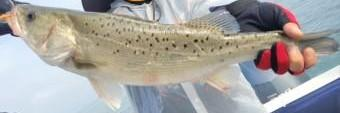fish: (5, 4, 339, 109)
